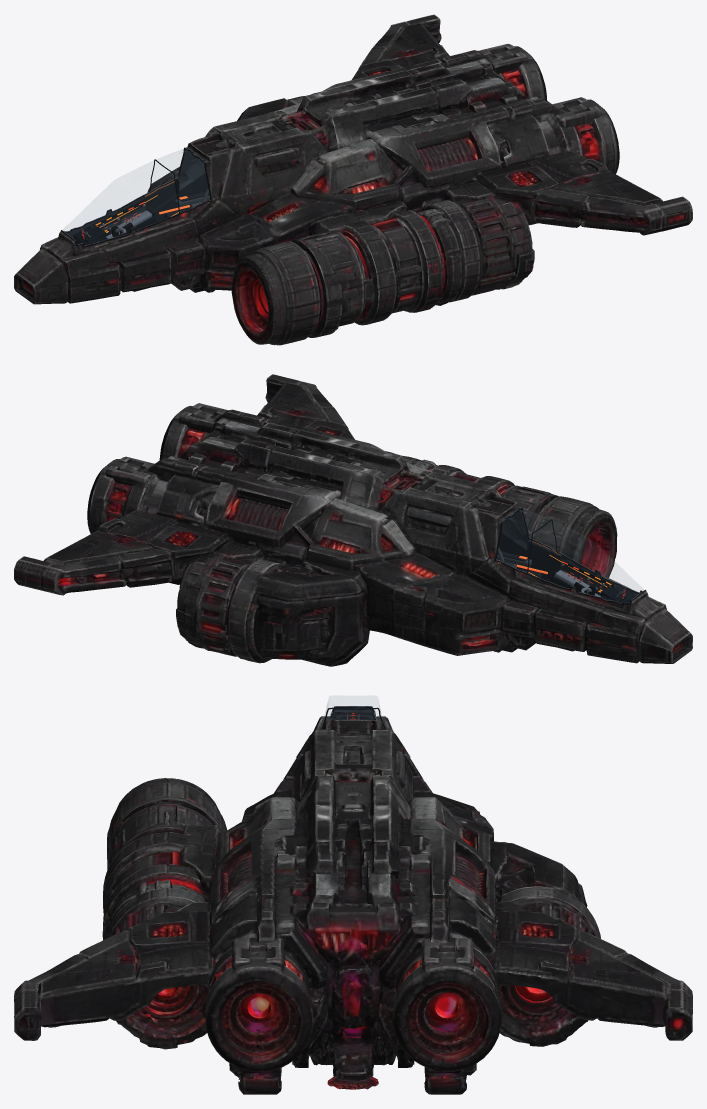
Rendered from pyro_cockpit_v04.glb.
The picture shows the model from 3 angles, top to bottom: view 1: azimuth 30°, elevation 25°; view 2: azimuth 150°, elevation 25°; view 3: azimuth 270°, elevation 25°; orthographic projection. The views are drawn at different scales.
Parts seen in each view (by area): view 1: Pyro_Hull_01_Glazed, Pyro_Windshield_Glass, LIN13_pyro_ConformalCabinShell, GL11_pyro_CanopyGasket_0, GL11_pyro_AftCanopyArch, Pyro_v04_L_TaperedSidewall, GL11_pyro_CanopyFrame_0, Pyro_v04_L_InnerSillLiner; view 2: Pyro_Hull_01_Glazed, Pyro_Windshield_Glass, LIN13_pyro_ConformalCabinShell, GL11_pyro_CanopyGasket_0, GL11_pyro_AftCanopyArch, GL11_pyro_CanopyFrame_0, Pyro_v04_R_TaperedSidewall, Pyro_v04_R_InnerSillLiner; view 3: Pyro_Hull_01_Glazed, Pyro_Windshield_Glass.
Part boxes in pixels (x1,y1,x2,y2): Pyro_Hull_01_Glazed: (14, 14, 692, 345); Pyro_Windshield_Glass: (63, 149, 196, 230); LIN13_pyro_ConformalCabinShell: (66, 142, 235, 273); GL11_pyro_CanopyGasket_0: (61, 148, 211, 246); GL11_pyro_AftCanopyArch: (73, 159, 179, 245); Pyro_v04_L_TaperedSidewall: (154, 173, 207, 221); GL11_pyro_CanopyFrame_0: (61, 147, 210, 245); Pyro_v04_L_InnerSillLiner: (145, 179, 179, 212); Pyro_Hull_01_Glazed: (14, 374, 692, 666); Pyro_Windshield_Glass: (510, 509, 643, 591); LIN13_pyro_ConformalCabinShell: (466, 492, 638, 650); GL11_pyro_CanopyGasket_0: (494, 507, 646, 604); GL11_pyro_AftCanopyArch: (527, 519, 633, 603); GL11_pyro_CanopyFrame_0: (497, 507, 645, 603); Pyro_v04_R_TaperedSidewall: (498, 533, 552, 580); Pyro_v04_R_InnerSillLiner: (527, 539, 561, 572); Pyro_Hull_01_Glazed: (14, 712, 692, 1094); Pyro_Windshield_Glass: (323, 696, 382, 721).
Size of the model in its own units: 1.9 by 0.5246 by 1.59.
21 materials, 1 textured.
